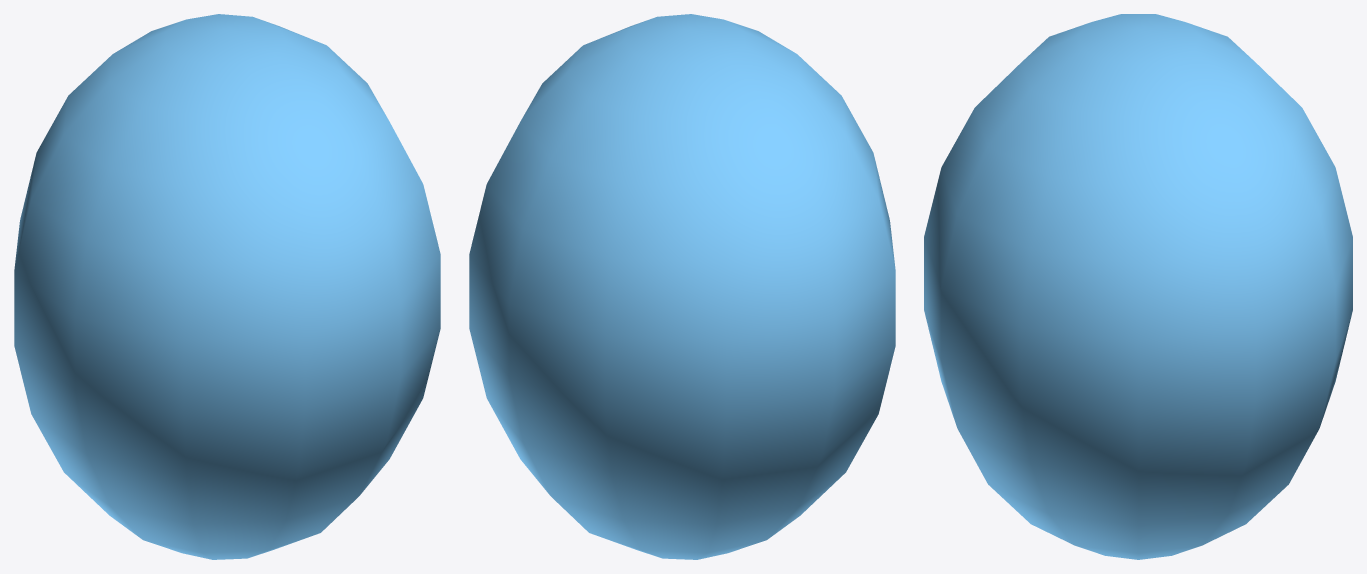
The model's file is niveor_stage3.obj.
The picture shows the model from 3 angles, left to right: view 1: azimuth 30°, elevation 25°; view 2: azimuth 150°, elevation 25°; view 3: azimuth 270°, elevation 25°; orthographic projection.
Bounding box in the file's own units: 2.72 × 3.64 × 2.74.
